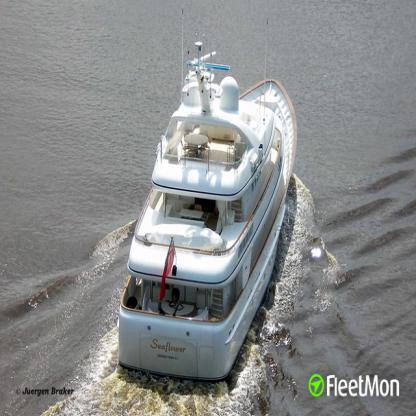Yacht: (118, 8, 298, 383)
